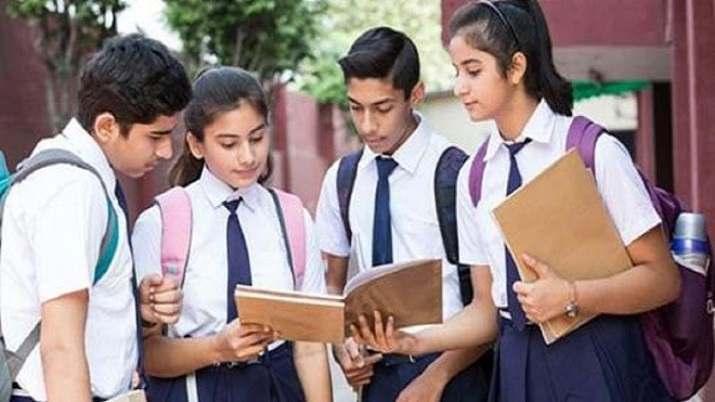Person: (444, 1, 682, 402), (1, 33, 195, 401), (134, 65, 333, 402), (315, 27, 471, 402)
